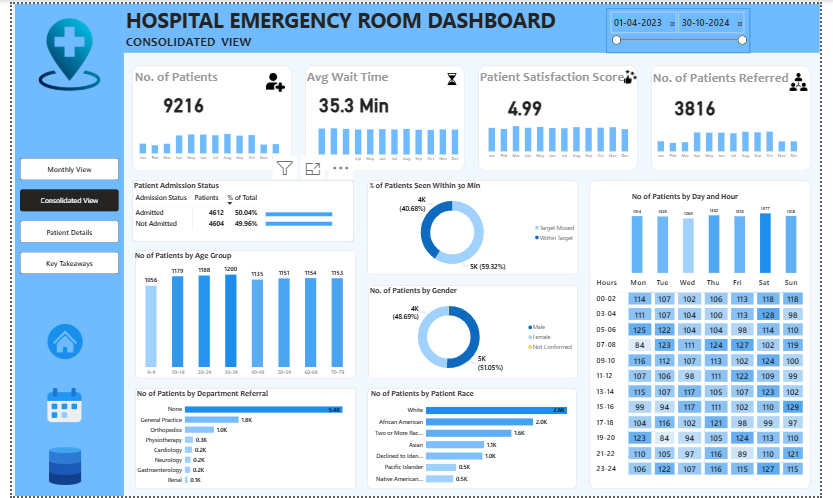

Layout of this report page (visuals, bound fields, positions):
{"tool":"powerbi","page":{"name":"Consolidated View","canvas":[2300,1400],"ordinal":1},"visuals":[{"type":"shape","box":[9.1,0,310,1400.5],"z":0},{"type":"shape","box":[342.4,172.7,455,303],"z":1000},{"type":"shape","box":[318.7,0,1980.5,139.4],"z":2000},{"type":"textbox","box":[319.9,0,1252.6,111.7],"z":3000},{"type":"textbox","box":[318.7,79.7,398.4,65.4],"z":4000},{"type":"card","fields":{"Values":["Hospital ER_Data.No of Patients"]},"box":[393.9,239.4,190.9,84.8],"z":5000},{"type":"slicer","fields":{"Values":["Date Table.Date"]},"box":[1690.2,11.4,409.8,128],"z":6000},{"type":"textbox","box":[345.5,178.8,290.9,66.7],"z":8000},{"type":"columnChart","fields":{"Category":["Date Table.Month Name"],"Y":["Hospital ER_Data.No of Patients"]},"box":[345.5,330.3,435,125],"z":9000},{"type":"shape","box":[834.3,172.7,455,303],"z":11000},{"type":"card","fields":{"Values":["Hospital ER_Data.Avg Wait Time"]},"box":[860.6,239.4,227.3,84.8],"z":12000},{"type":"textbox","box":[833.3,178.8,290.9,66.7],"z":13000},{"type":"columnChart","fields":{"Category":["Date Table.Month Name"],"Y":["Avg(Hospital ER_Data.Patient Waittime)"]},"box":[853.7,332.9,435.4,125.2],"z":14000},{"type":"shape","box":[1326.3,172.7,455,303],"z":15000},{"type":"shape","box":[1818.2,172.7,455,303],"z":16000},{"type":"textbox","box":[1327.3,178.8,433.3,66.7],"z":17000},{"type":"card","fields":{"Values":["Hospital ER_Data.No of Patient Referred"]},"box":[1830.3,248.5,227.3,84.8],"z":18000},{"type":"card","fields":{"Values":["Hospital ER_Data.Satisfaction Score"]},"box":[1345.5,248.5,227.3,84.8],"z":19000},{"type":"columnChart","fields":{"Y":["Hospital ER_Data.Satisfaction Score"],"Category":["Date Table.Month Name"]},"box":[1336.4,324.2,435,125],"z":20000},{"type":"textbox","box":[1818.2,181.8,454.5,66.7],"z":21000},{"type":"columnChart","fields":{"Category":["Date Table.Month Name"],"Y":["Hospital ER_Data.No of Patient Referred"]},"box":[1818.2,324.2,435,125],"z":22000},{"type":"shape","box":[341.5,500.8,631.7,176.4],"z":23000},{"type":"pivotTable","title":"Patient Admission Status","fields":{"Rows":["Hospital ER_Data.Admission Status"],"Values":["Hospital ER_Data.No of Patients1","Hospital ER_Data.No of Patients"]},"box":[341.5,500.8,631.7,176.4],"z":24000},{"type":"barChart","fields":{"Category":["Hospital ER_Data.Admission Status"],"Y":["Hospital ER_Data.No of Patients"]},"box":[717.1,566.3,256.1,85.4],"z":25000},{"type":"shape","box":[350,700,628.9,367.1],"z":26000},{"type":"clusteredColumnChart","fields":{"Category":["Hospital ER_Data.Age Group"],"Y":["Hospital ER_Data.No of Patients"]},"box":[344.3,700,634.6,367.1],"z":27000},{"type":"shape","box":[350,1092.7,628.9,287.4],"z":28000},{"type":"clusteredBarChart","fields":{"Category":["Hospital ER_Data.Department Referral"],"Y":["Hospital ER_Data.No of Patients"]},"box":[350,1092.7,623.2,287.4],"z":29000},{"type":"shape","box":[1010.2,500.8,600,270],"z":30000},{"type":"donutChart","title":"% of Patients Seen Within 30 Min","fields":{"Category":["Hospital ER_Data.Waittime Status"],"Y":["Hospital ER_Data.No of Patients"]},"box":[1013,500.8,600.4,270.3],"z":31000},{"type":"shape","box":[1013,799.6,597.6,267.5],"z":32000},{"type":"donutChart","title":"No. of Patients by Gender","fields":{"Y":["Hospital ER_Data.No of Patients"],"Category":["Hospital ER_Data.Patient Gender"]},"box":[1013,799.6,594.7,267.5],"z":33000},{"type":"shape","box":[1010.2,1092.7,597.6,287.4],"z":34000},{"type":"shape","box":[1641.9,500.8,631.7,879.3],"z":35000},{"type":"clusteredBarChart","fields":{"Y":["Hospital ER_Data.No of Patients"],"Category":["Hospital ER_Data.Patient Race"]},"box":[1015.9,1092.7,597.6,287.4],"z":36000},{"type":"pivotTable","fields":{"Rows":["Hospital ER_Data.Waittime Interval"],"Columns":["Date Table.Day Name"],"Values":["Hospital ER_Data.No of Patients"]},"box":[1653.3,771.1,606.1,580.5],"z":37000},{"type":"columnChart","title":"No of Patients by Day and Hour ","fields":{"Category":["Date Table.Day Name"],"Y":["Hospital ER_Data.No of Patients"]},"box":[1758.5,532.1,480.9,239],"z":38000},{"type":"image","box":[59.8,34.1,207.7,219.1],"z":39000},{"type":"image","box":[2202.4,196.3,71.1,51.2],"z":40000},{"type":"image","box":[1235,190.7,34.1,45.5],"z":41000},{"type":"image","box":[1738.6,165,42.7,82.5],"z":42000},{"type":"image","box":[719.9,196.3,59.8,54.1],"z":43000},{"type":"pageNavigator","box":[22.8,438.2,281.7,332.9],"z":43001},{"type":"image","box":[17.1,910.6,267.5,99.6],"z":43002},{"type":"image","box":[25.6,1092.7,247.6,96.7],"z":43003},{"type":"image","box":[82.5,1237.8,136.6,153.7],"z":43004}]}

Visuals, with their boxes in screenshot pixels (x1, y1, x2, y2), scaled from the page's 2300x1400 canvas onto the 833x498 screenshot:
shape: (left=3, top=0, right=116, bottom=497)
shape: (left=124, top=61, right=289, bottom=169)
shape: (left=115, top=0, right=832, bottom=50)
textbox: (left=116, top=0, right=570, bottom=40)
textbox: (left=115, top=28, right=260, bottom=52)
card - Hospital ER_Data.No of Patients: (left=143, top=85, right=212, bottom=115)
slicer - Date Table.Date: (left=612, top=4, right=761, bottom=50)
textbox: (left=125, top=64, right=230, bottom=87)
columnChart - Date Table.Month Name x Hospital ER_Data.No of Patients: (left=125, top=117, right=283, bottom=162)
shape: (left=302, top=61, right=467, bottom=169)
card - Hospital ER_Data.Avg Wait Time: (left=312, top=85, right=394, bottom=115)
textbox: (left=302, top=64, right=407, bottom=87)
columnChart - Date Table.Month Name x Avg(Hospital ER_Data.Patient Waittime): (left=309, top=118, right=467, bottom=163)
shape: (left=480, top=61, right=645, bottom=169)
shape: (left=659, top=61, right=823, bottom=169)
textbox: (left=481, top=64, right=638, bottom=87)
card - Hospital ER_Data.No of Patient Referred: (left=663, top=88, right=745, bottom=119)
card - Hospital ER_Data.Satisfaction Score: (left=487, top=88, right=570, bottom=119)
columnChart - Hospital ER_Data.Satisfaction Score x Date Table.Month Name: (left=484, top=115, right=642, bottom=160)
textbox: (left=659, top=65, right=823, bottom=88)
columnChart - Date Table.Month Name x Hospital ER_Data.No of Patient Referred: (left=659, top=115, right=816, bottom=160)
shape: (left=124, top=178, right=352, bottom=241)
"Patient Admission Status" pivotTable: (left=124, top=178, right=352, bottom=241)
barChart - Hospital ER_Data.Admission Status x Hospital ER_Data.No of Patients: (left=260, top=201, right=352, bottom=232)
shape: (left=127, top=249, right=355, bottom=380)
clusteredColumnChart - Hospital ER_Data.Age Group x Hospital ER_Data.No of Patients: (left=125, top=249, right=355, bottom=380)
shape: (left=127, top=389, right=355, bottom=491)
clusteredBarChart - Hospital ER_Data.Department Referral x Hospital ER_Data.No of Patients: (left=127, top=389, right=352, bottom=491)
shape: (left=366, top=178, right=583, bottom=274)
"% of Patients Seen Within 30 Min" donutChart: (left=367, top=178, right=584, bottom=274)
shape: (left=367, top=284, right=583, bottom=380)
"No. of Patients by Gender" donutChart: (left=367, top=284, right=582, bottom=380)
shape: (left=366, top=389, right=582, bottom=491)
shape: (left=595, top=178, right=823, bottom=491)
clusteredBarChart - Hospital ER_Data.No of Patients x Hospital ER_Data.Patient Race: (left=368, top=389, right=584, bottom=491)
pivotTable - Hospital ER_Data.Waittime Interval x Date Table.Day Name: (left=599, top=274, right=818, bottom=481)
"No of Patients by Day and Hour " columnChart: (left=637, top=189, right=811, bottom=274)
image: (left=22, top=12, right=97, bottom=90)
image: (left=798, top=70, right=823, bottom=88)
image: (left=447, top=68, right=460, bottom=84)
image: (left=630, top=59, right=645, bottom=88)
image: (left=261, top=70, right=282, bottom=89)
pageNavigator: (left=8, top=156, right=110, bottom=274)
image: (left=6, top=324, right=103, bottom=359)
image: (left=9, top=389, right=99, bottom=423)
image: (left=30, top=440, right=79, bottom=495)
